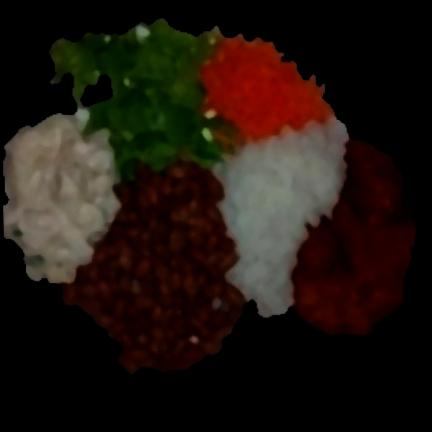beans: (63, 162, 244, 372)
carrot: (200, 35, 333, 137)
chicken: (292, 141, 415, 335)
rice: (214, 119, 346, 317)
salad: (50, 18, 222, 178)
